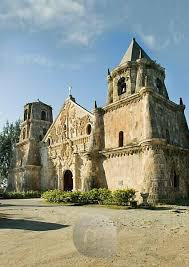miagao_church_miagao_iloilo: (4, 33, 189, 199)
